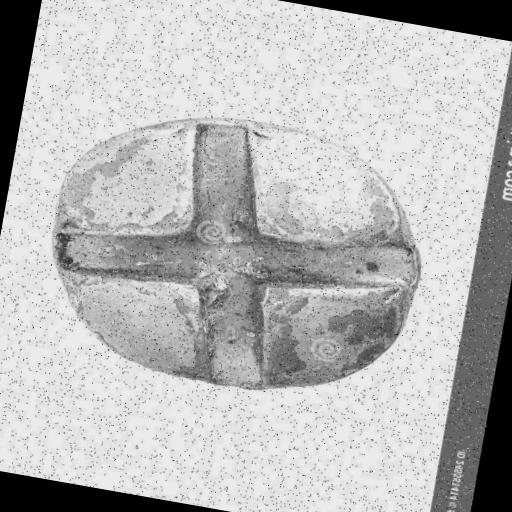Slotted: (22, 69, 450, 436)
